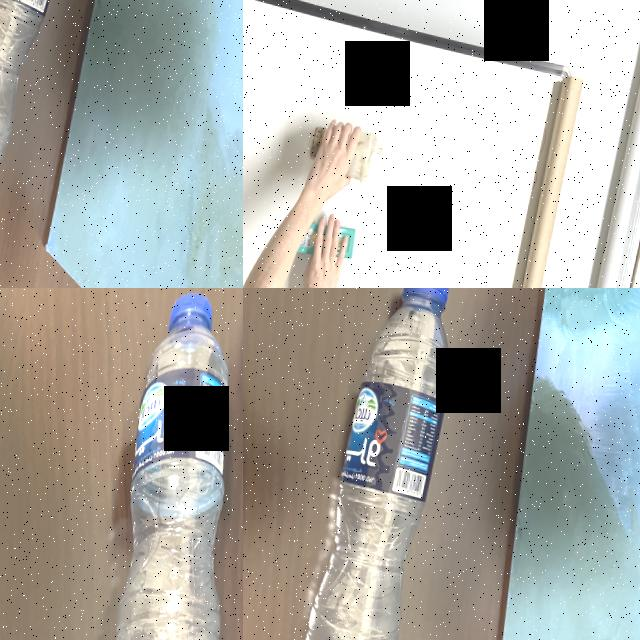bottle: (265, 288, 474, 640), (96, 288, 243, 640), (0, 0, 98, 194)
cup: (304, 120, 378, 185)
